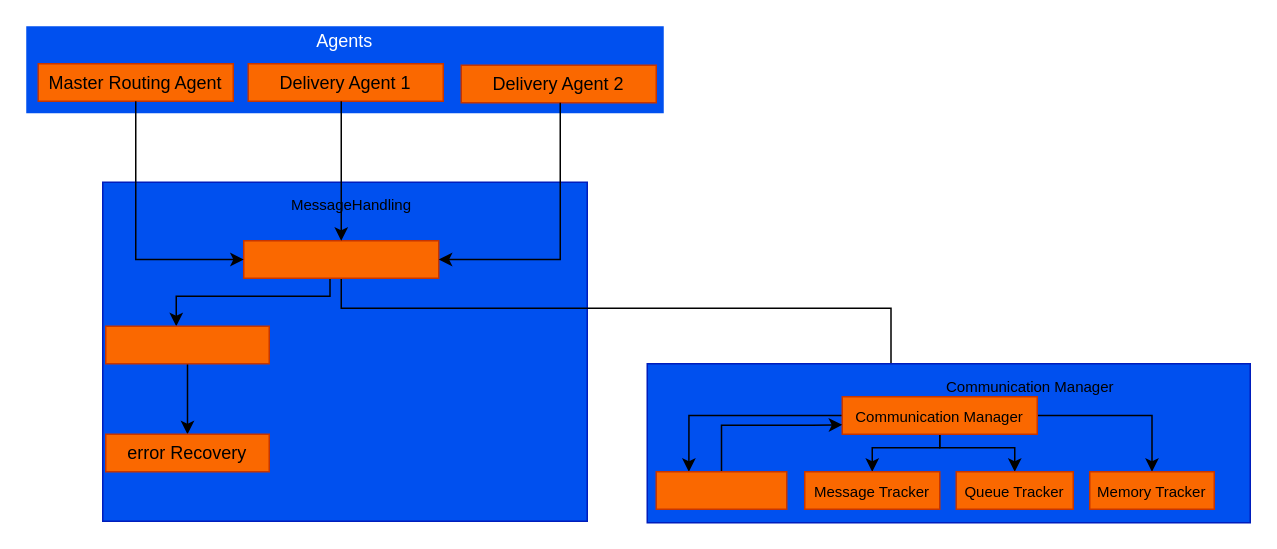
Some shapes in this 1277 by 549 pixel diagram are drawn without their labels. Each missing label, with the centre of its shape:
Message Handlers: the point at 186,344
Message Protocol: the point at 340,258
Message Queue: the point at 721,489
